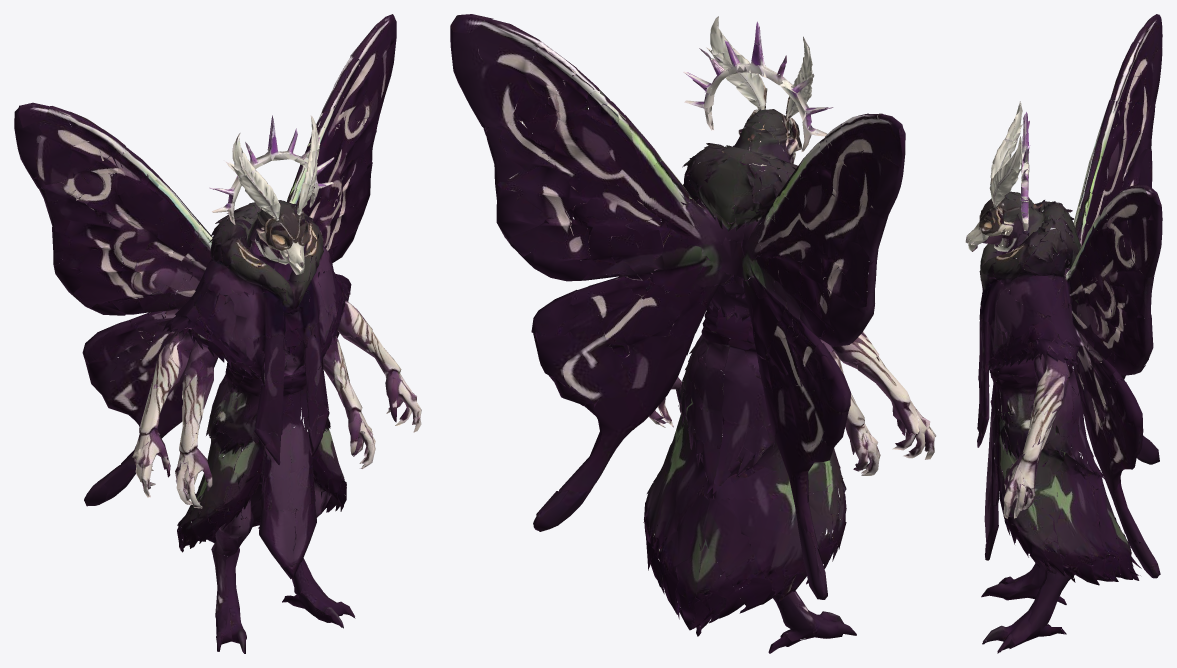
3 renders of one model, left to right at view 1: azimuth 30°, elevation 25°; view 2: azimuth 150°, elevation 25°; view 3: azimuth 270°, elevation 25°, orthographic. The views are drawn at different scales.
Visible parts, largest first — view 1: Mesh_0; view 2: Mesh_0; view 3: Mesh_0.
Part boxes in pixels (x1,y1,x2,y2): Mesh_0: (14, 14, 421, 653); Mesh_0: (450, 14, 936, 653); Mesh_0: (965, 14, 1162, 653).
Size of the model in its own units: 1.46 by 1.9 by 0.6557.
1 material, 1 textured.
